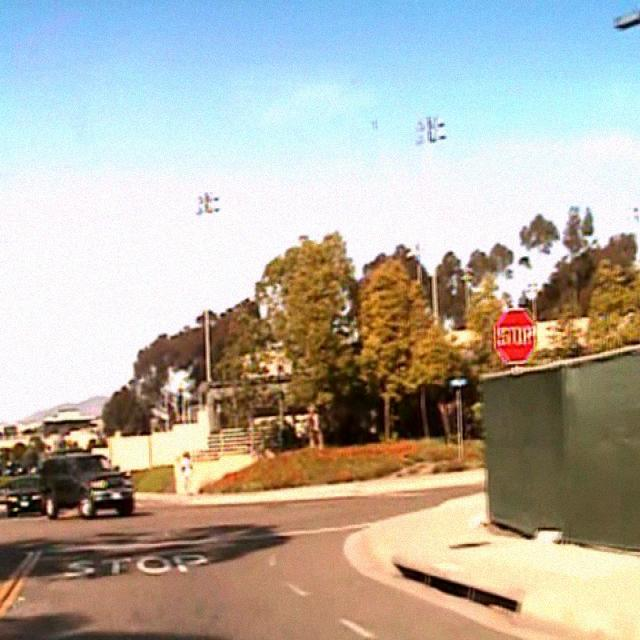stop: (493, 306, 536, 362)
